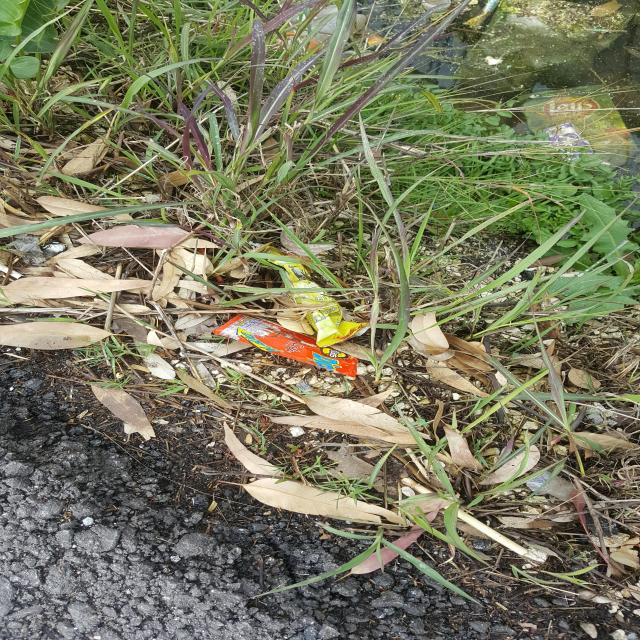litter: (264, 246, 371, 347), (212, 313, 356, 377)
